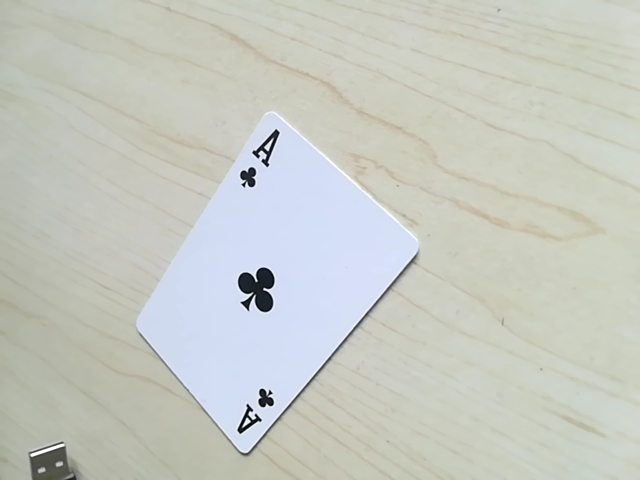mh a: (225, 381, 281, 455), (228, 122, 280, 200)
